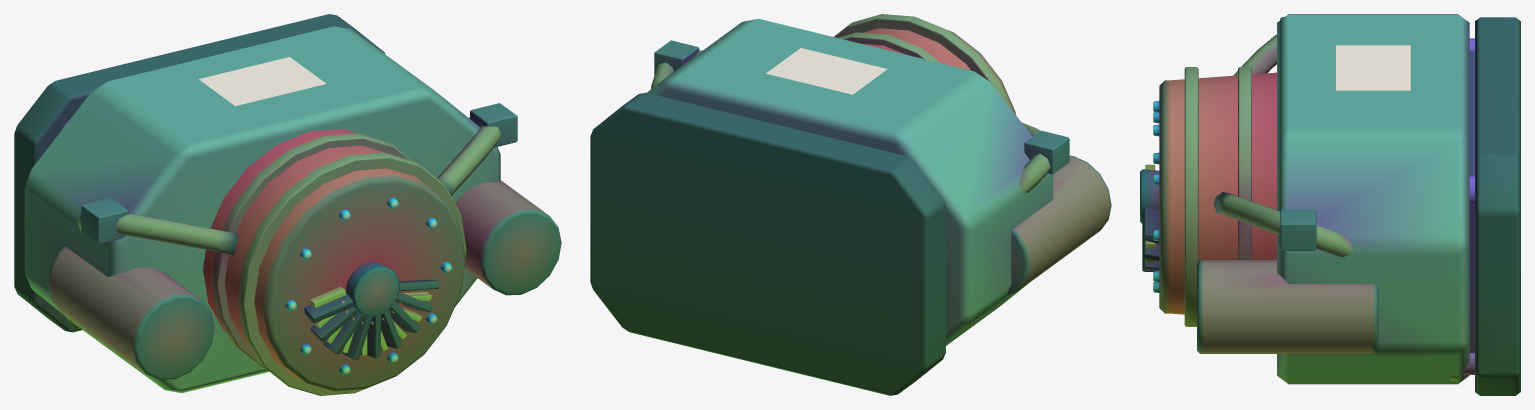
File: gen_lfr_lead_bismuth.glb
The picture shows the model from 3 angles, left to right: view 1: azimuth 30°, elevation 25°; view 2: azimuth 150°, elevation 25°; view 3: azimuth 270°, elevation 25°; orthographic projection. The views are drawn at different scales.
Visible parts, largest first — view 1: Body__armor, Body__armor_oxide, Body__gunmetal, Body__copper, Body__dark, Body__decal, Body__emit_amber, Body__chrome; view 2: Body__dark, Body__armor, Body__gunmetal, Body__copper, Body__decal, Body__armor_oxide; view 3: Body__armor, Body__gunmetal, Body__dark, Body__armor_oxide, Body__copper, Body__decal, Body__chrome.
Boxes of the visible parts, left/top/right/bottom form: Body__armor: left=24, top=26, right=500, bottom=393; Body__armor_oxide: left=203, top=129, right=465, bottom=391; Body__gunmetal: left=48, top=103, right=561, bottom=379; Body__copper: left=77, top=117, right=501, bottom=395; Body__dark: left=14, top=14, right=438, bottom=359; Body__decal: left=199, top=57, right=326, bottom=105; Body__emit_amber: left=309, top=286, right=431, bottom=355; Body__chrome: left=62, top=120, right=452, bottom=375; Body__dark: left=590, top=92, right=945, bottom=395; Body__armor: left=647, top=18, right=1053, bottom=345; Body__gunmetal: left=654, top=40, right=1111, bottom=295; Body__copper: left=651, top=14, right=1050, bottom=192; Body__decal: left=766, top=48, right=887, bottom=94; Body__armor_oxide: left=863, top=24, right=1015, bottom=114; Body__armor: left=1277, top=14, right=1469, bottom=384; Body__gunmetal: left=1140, top=17, right=1474, bottom=353; Body__dark: left=1142, top=17, right=1520, bottom=395; Body__armor_oxide: left=1159, top=72, right=1276, bottom=314; Body__copper: left=1184, top=34, right=1352, bottom=326; Body__decal: left=1336, top=45, right=1410, bottom=90; Body__chrome: left=1153, top=38, right=1474, bottom=374.
Size of the model in its own units: 0.936 by 0.536 by 0.7123.
